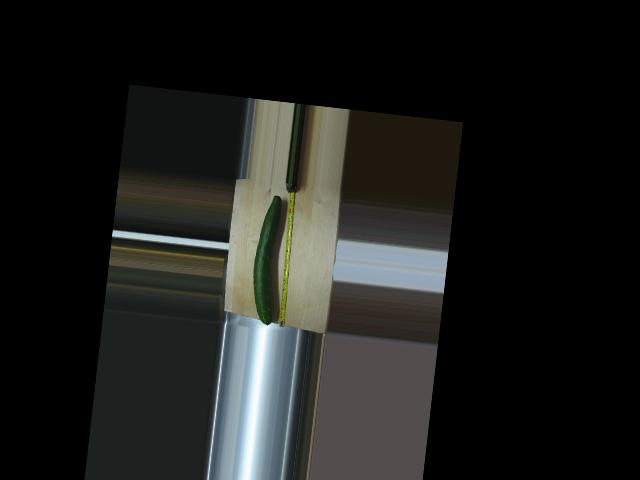cucumber: (247, 193, 287, 325)
